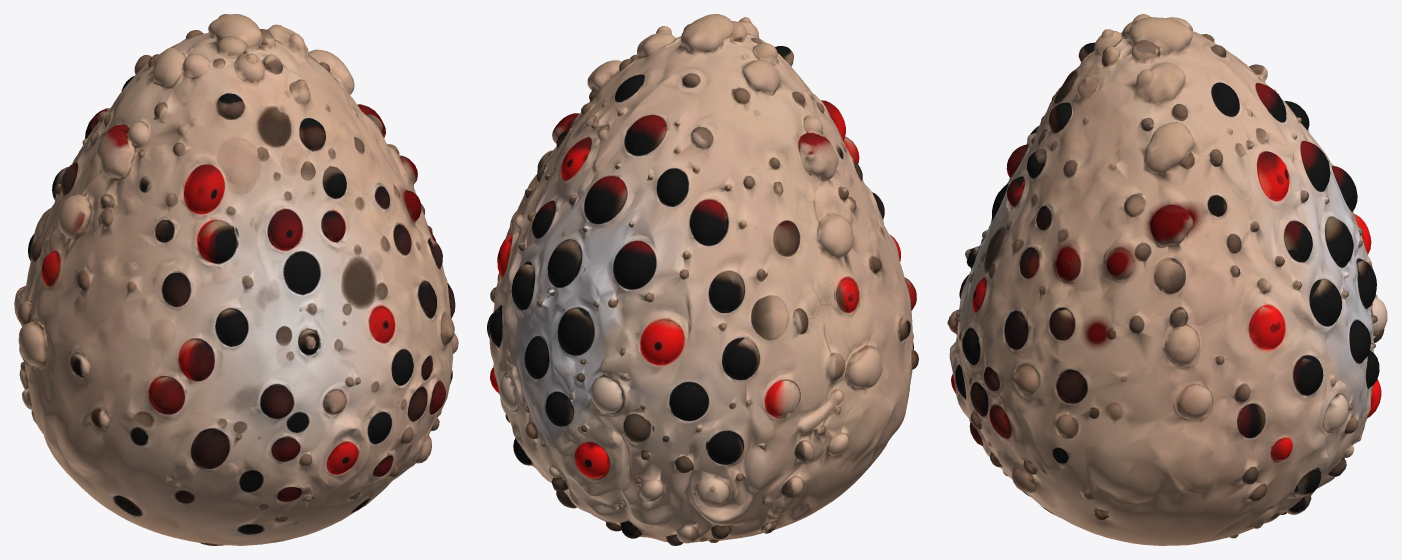
The model's file is Signal-Egg.glb.
3 views of the same model, side by side, from view 1: azimuth 30°, elevation 25°; view 2: azimuth 150°, elevation 25°; view 3: azimuth 270°, elevation 25° (orthographic). The views are drawn at different scales.
Visible parts, largest first — view 1: Mesh_0; view 2: Mesh_0; view 3: Mesh_0.
Part boxes in pixels (left/top/right/bottom): Mesh_0: left=14, top=14, right=458, bottom=545; Mesh_0: left=487, top=14, right=918, bottom=545; Mesh_0: left=947, top=14, right=1387, bottom=545.
Bounding box in the file's own units: 0.1213 × 0.1524 × 0.1211.
Materials: 1 (1 with a texture image).
